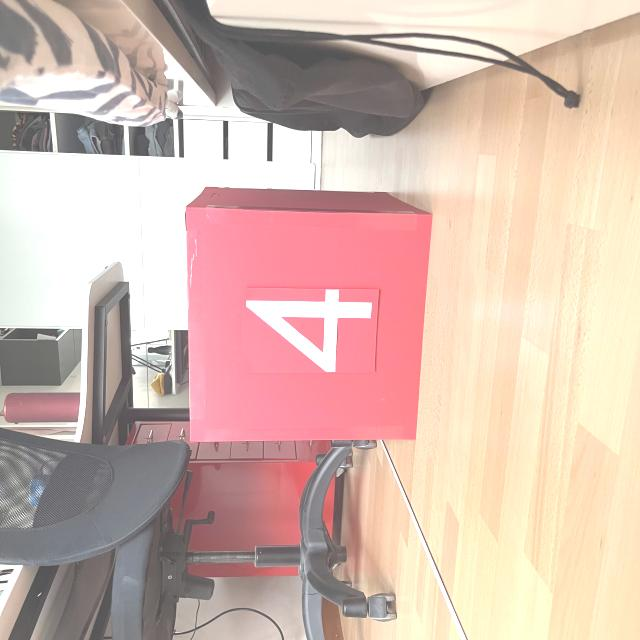box: (181, 182, 435, 444)
